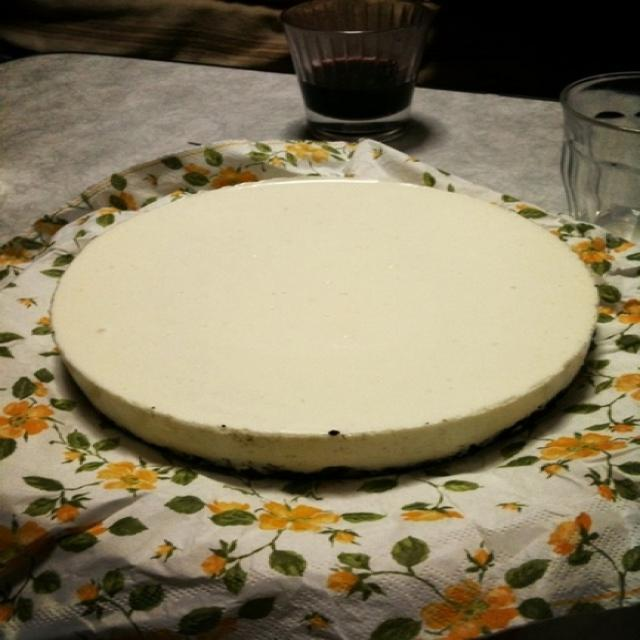Rare cheese cake: (22, 163, 628, 483)
